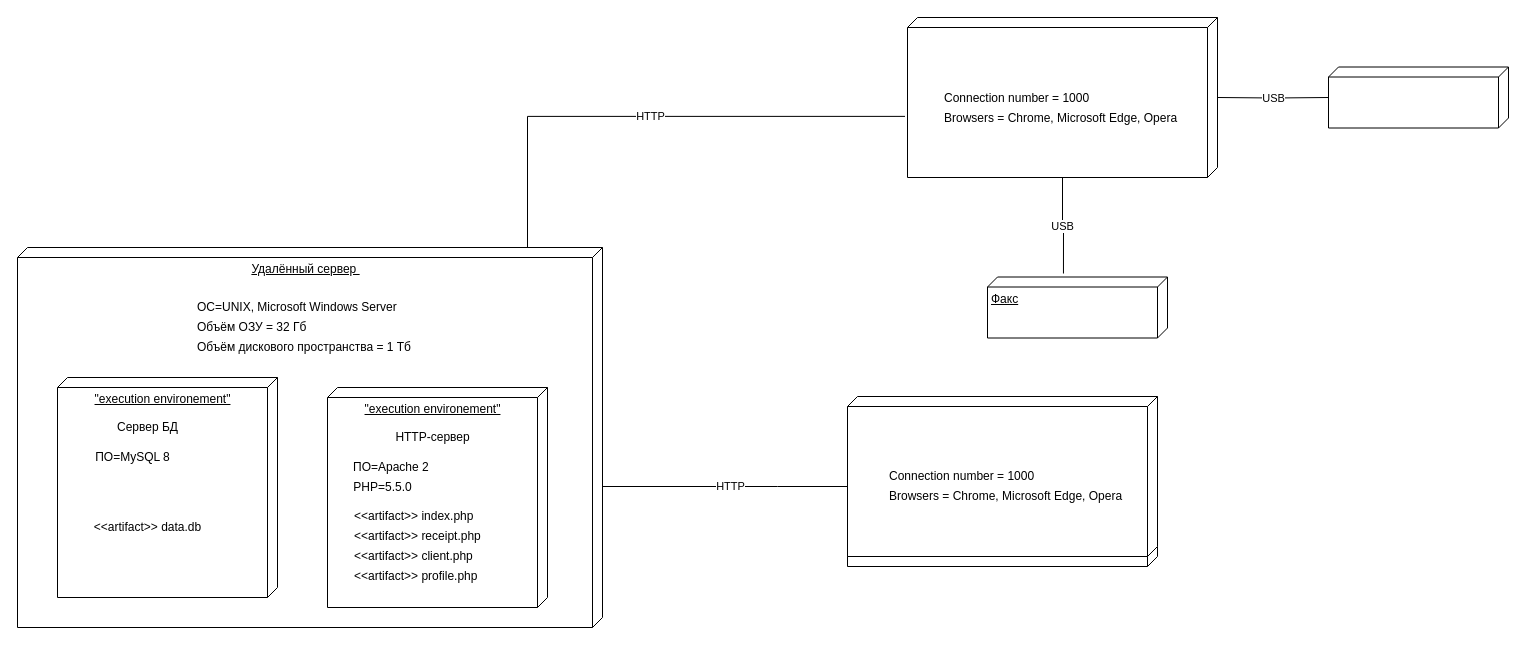
Image size: 1526x645. Some labels were removed from this diagram. The box of each missing label's shape, as (x1, y1, x2, y2) in pixels:
Принтер: (1328, 66, 1508, 128)
Рабочее место клиента ЖКХ: (846, 396, 1158, 556)
Рабочее место сотрудника ЖКХ: (906, 16, 1218, 178)
